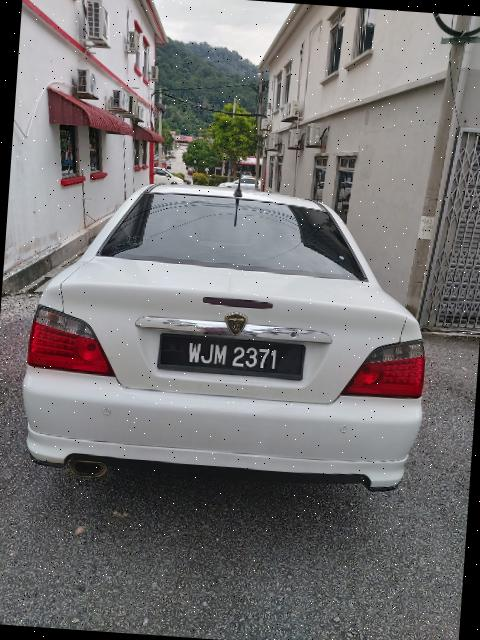License_Plate: (173, 329, 294, 389)
car: (14, 171, 444, 506)
